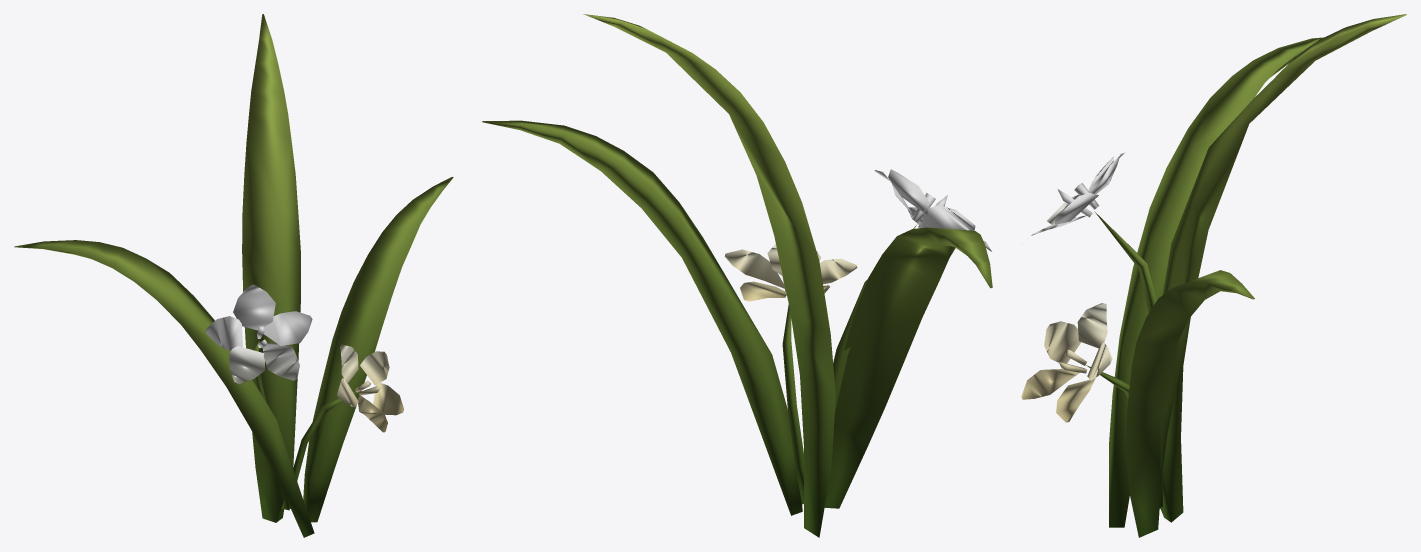
Rendered from grass_d.glb.
3 views of the same model, side by side, from view 1: azimuth 30°, elevation 25°; view 2: azimuth 150°, elevation 25°; view 3: azimuth 270°, elevation 25° (orthographic). The views are drawn at different scales.
Parts seen in each view (by area): view 1: ground; view 2: ground; view 3: ground.
Boxes of the visible parts, box(x1,y1,x2,y2) form: ground: box(14, 14, 453, 537); ground: box(482, 14, 992, 537); ground: box(1021, 14, 1406, 537).
Bounding box in the file's own units: 0.998 × 0.998 × 0.627.
